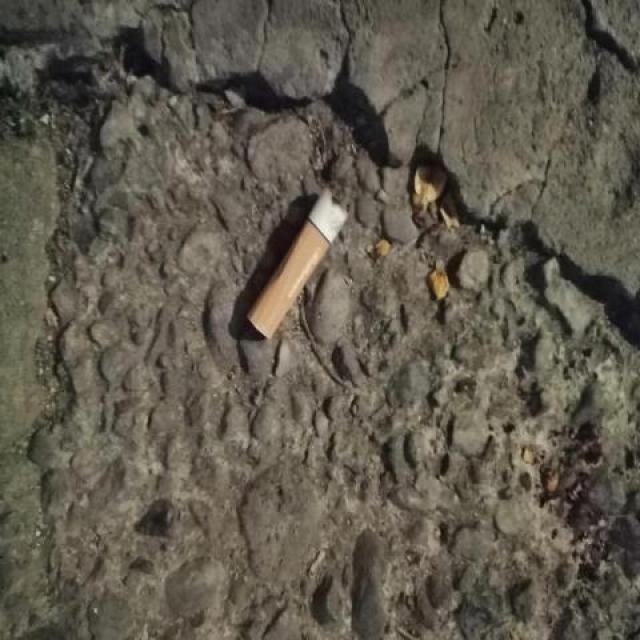non-organic waste: (240, 183, 352, 344)
